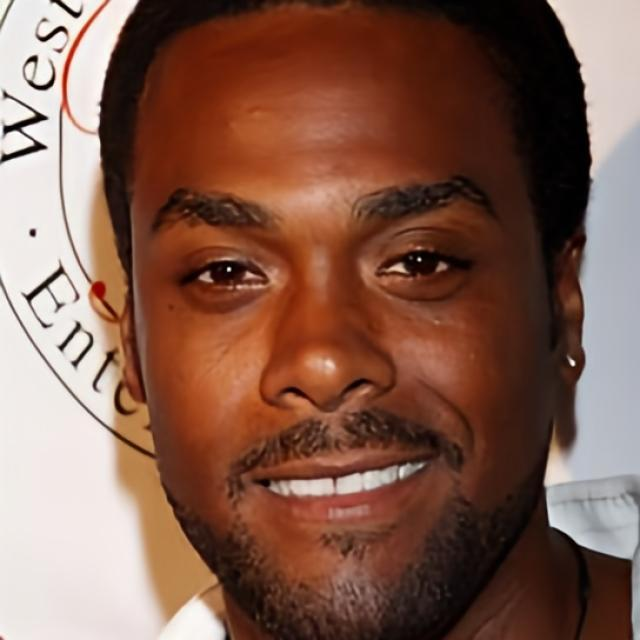happy: (129, 0, 553, 640)
